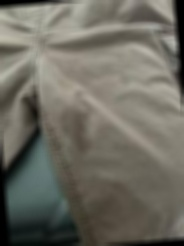oil: (62, 93, 94, 150), (119, 70, 128, 83)
